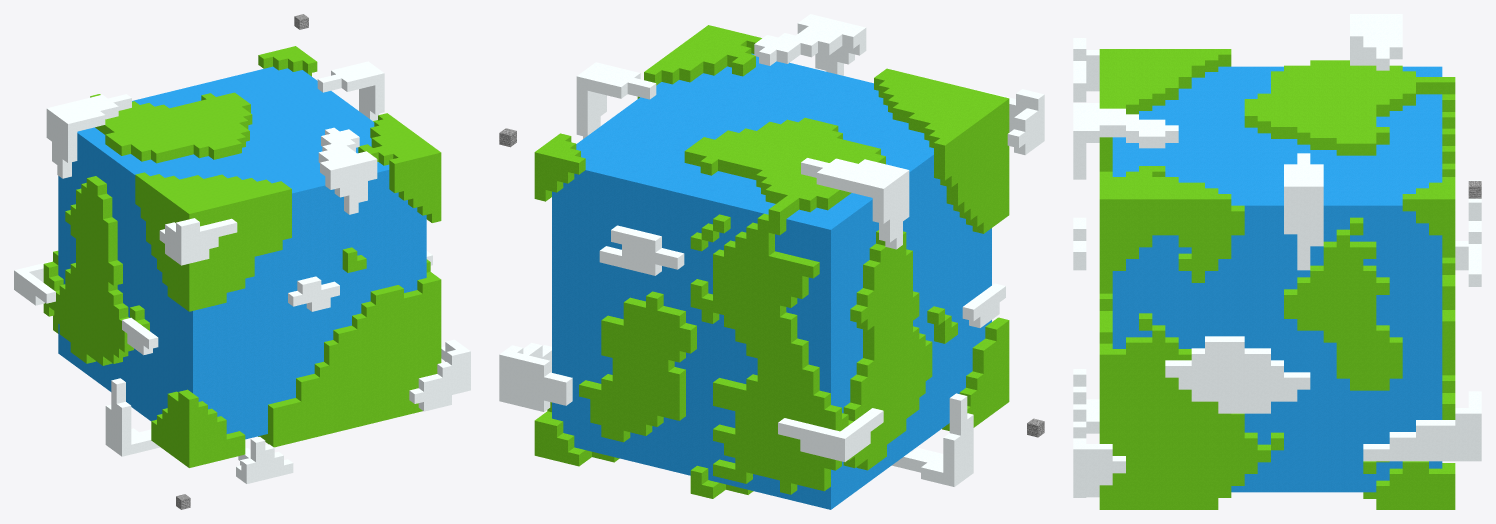
File: earth-cube.glb
3 views of the same model, side by side, from view 1: azimuth 30°, elevation 25°; view 2: azimuth 150°, elevation 25°; view 3: azimuth 270°, elevation 25° (orthographic). The views are drawn at different scales.
Visible parts, largest first — view 1: Object_2; view 2: Object_2; view 3: Object_2.
Boxes of the visible parts, x1,y1,x2,y2 form: Object_2: (14, 46, 470, 483); Object_2: (499, 14, 1044, 509); Object_2: (1073, 14, 1481, 509).
Bounding box in the file's own units: 1 × 1 × 1.
Materials: 2 (2 with a texture image).
